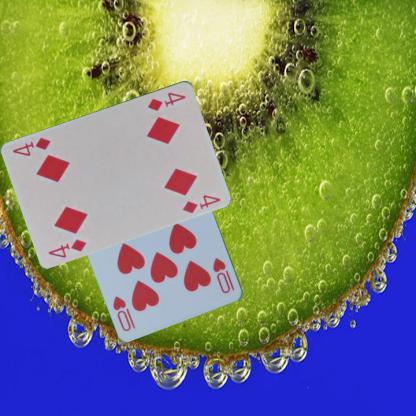10h: (210, 254, 236, 295)
4d: (145, 89, 188, 112), (45, 236, 87, 259)
